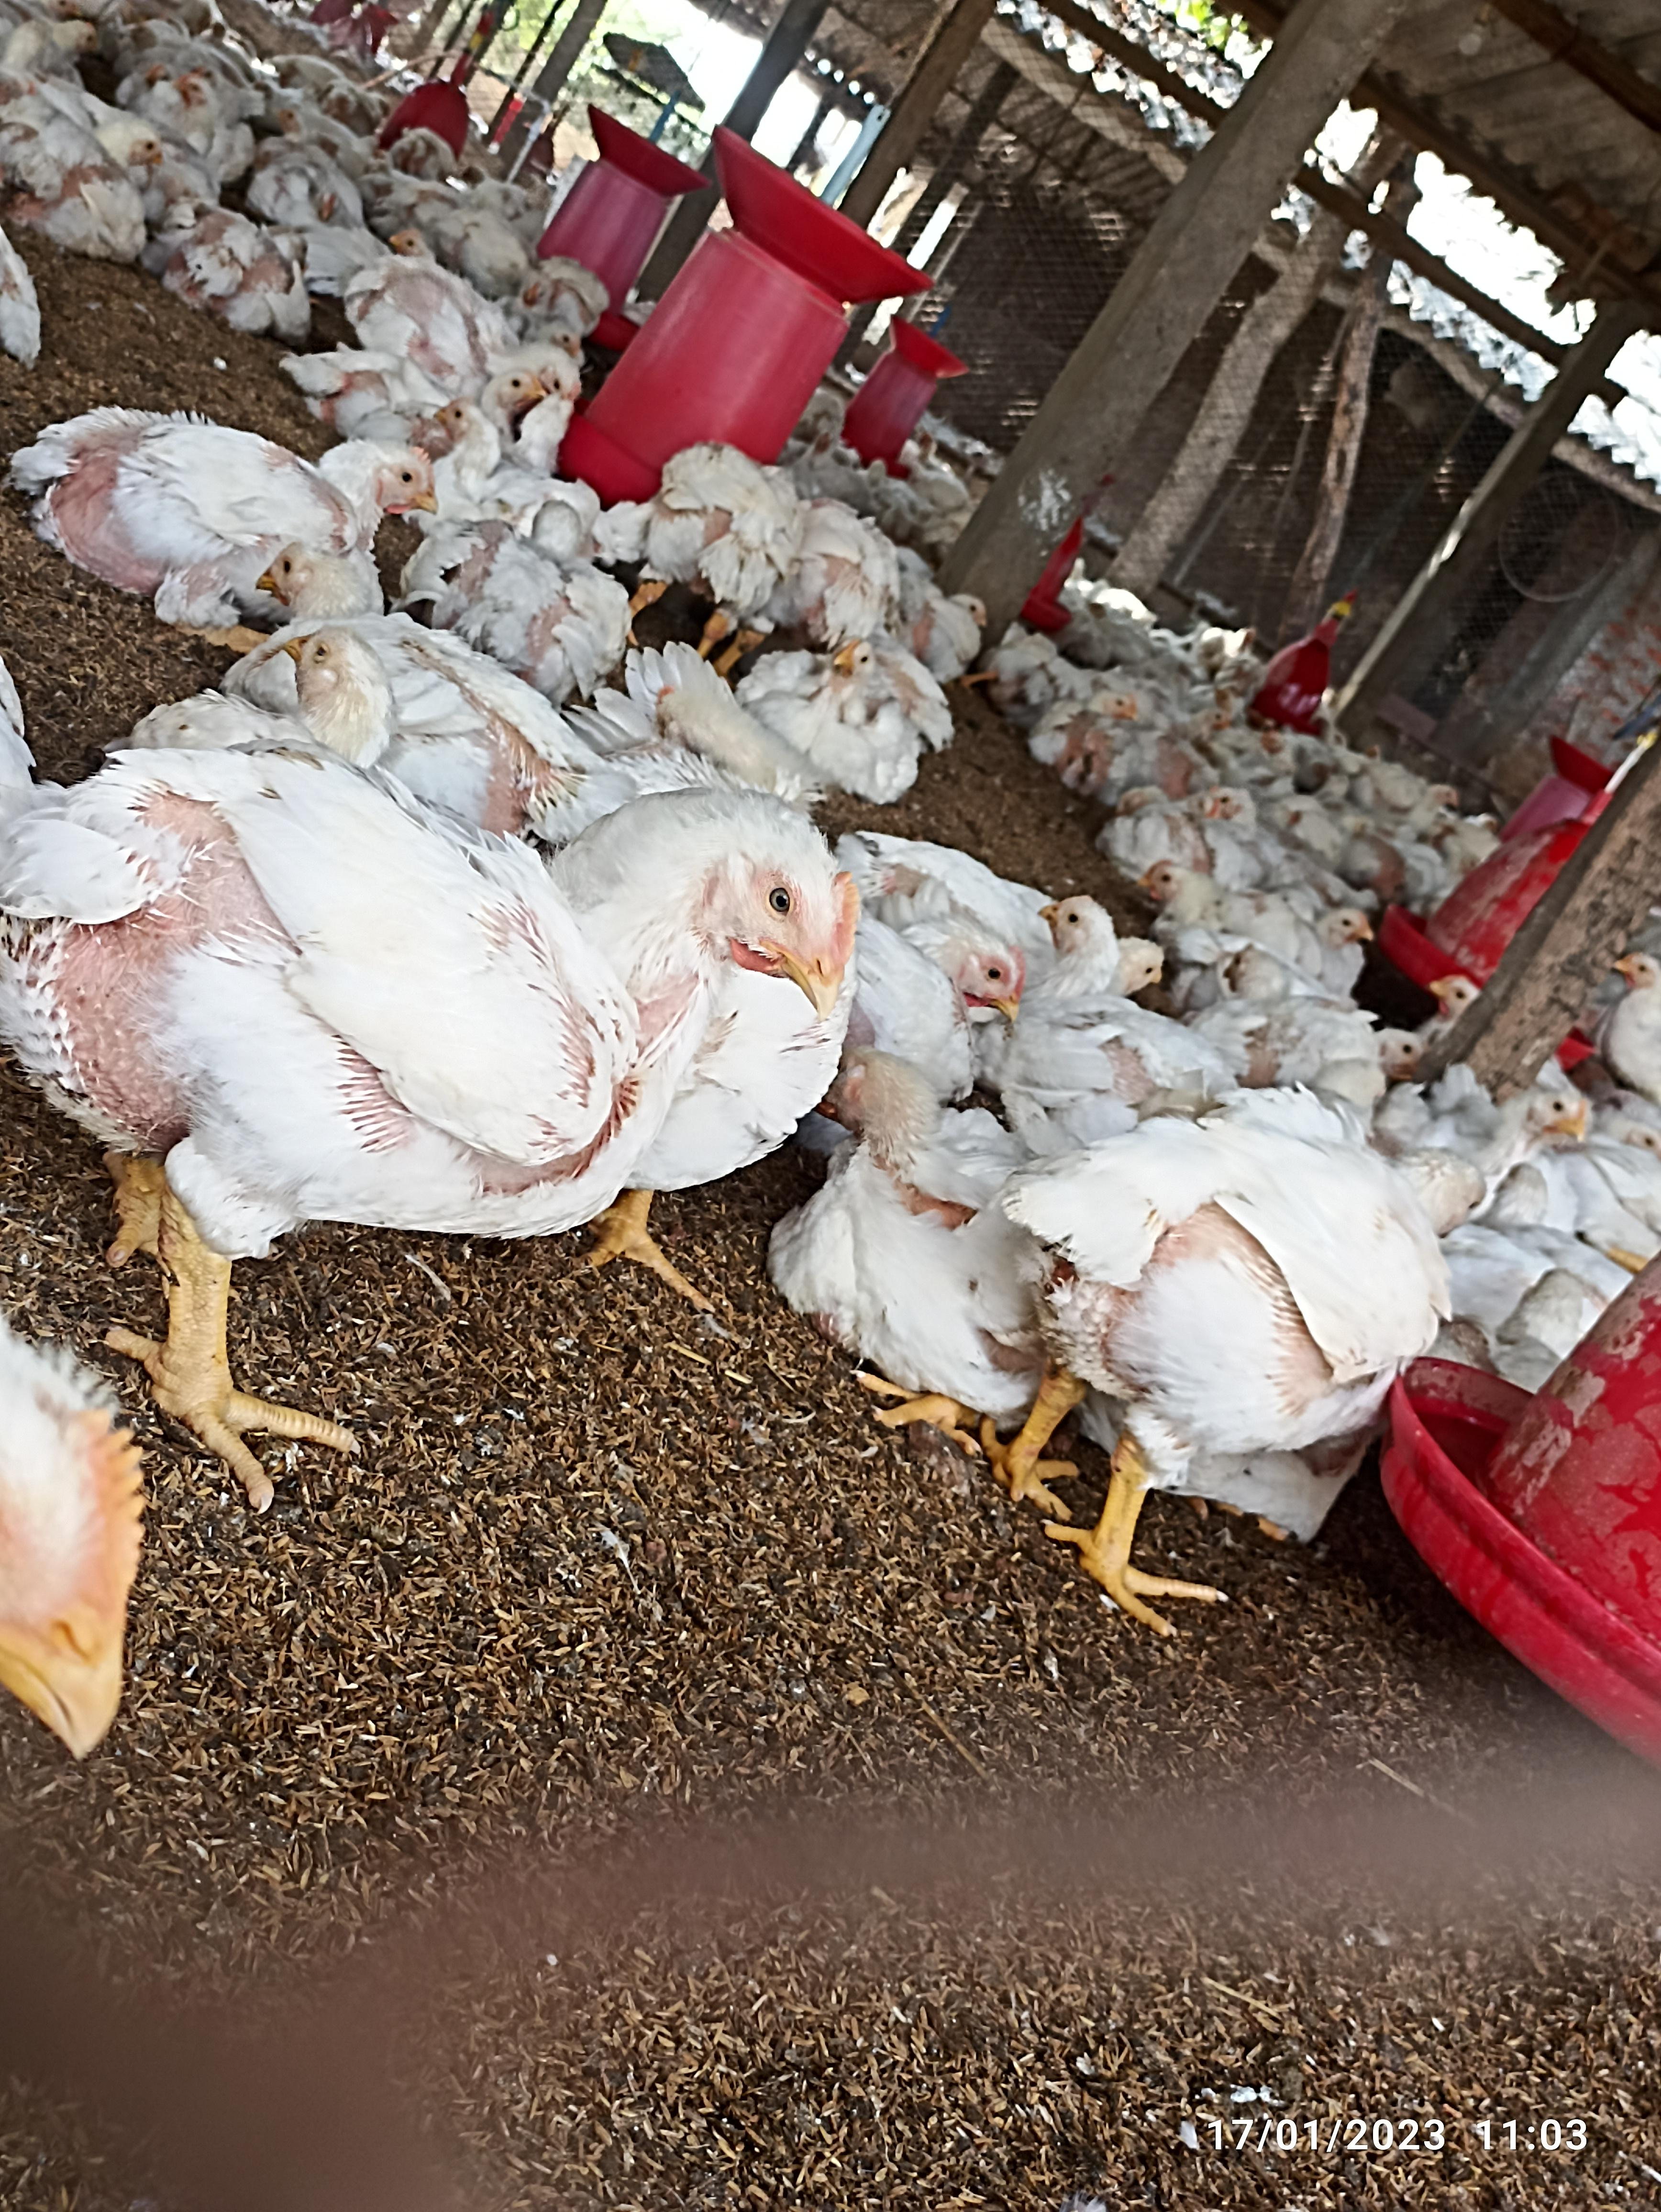Pollos: (42, 782, 865, 1171), (1061, 1089, 1466, 1430), (33, 434, 431, 581), (1017, 890, 1176, 1099), (764, 644, 926, 792), (1209, 900, 1382, 965)
